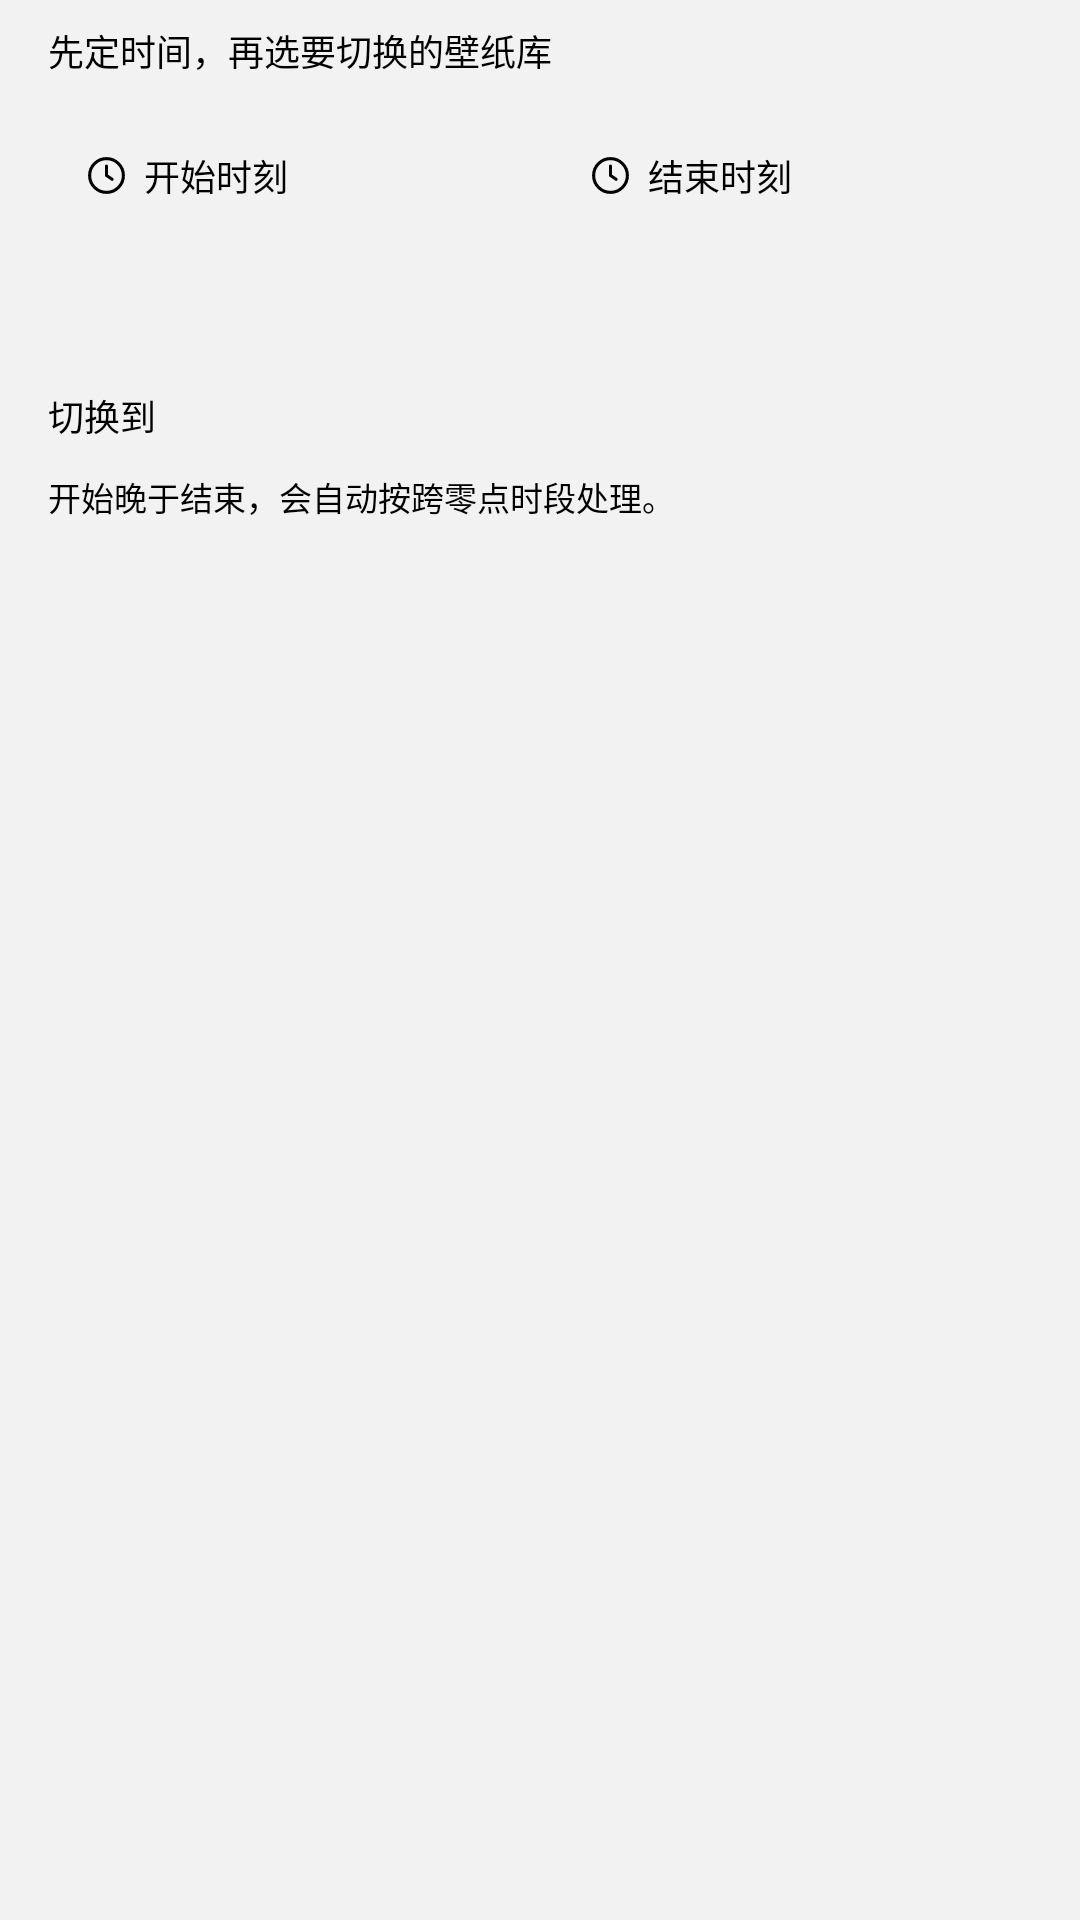

Screen size 1080w x 1920h. Icon name, then its box in pixels as (x1, y1, x2, y2):
schedule: (88, 157, 125, 194), (592, 157, 629, 194)
